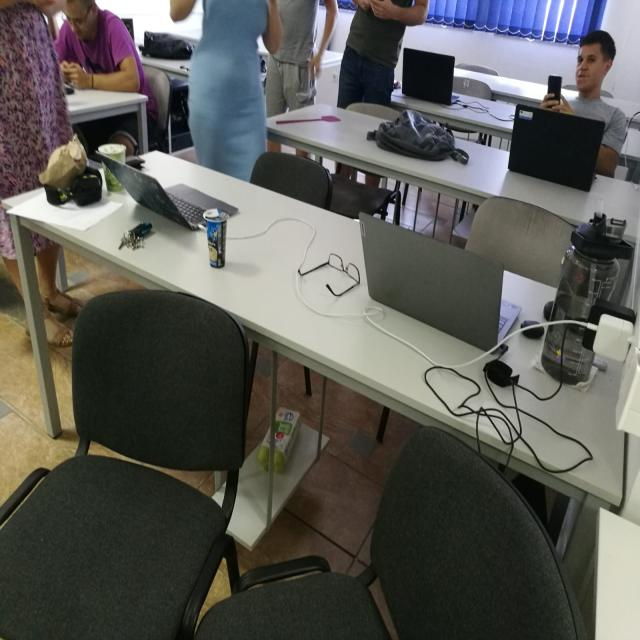Laptops_bbox: (351, 173, 529, 380)
